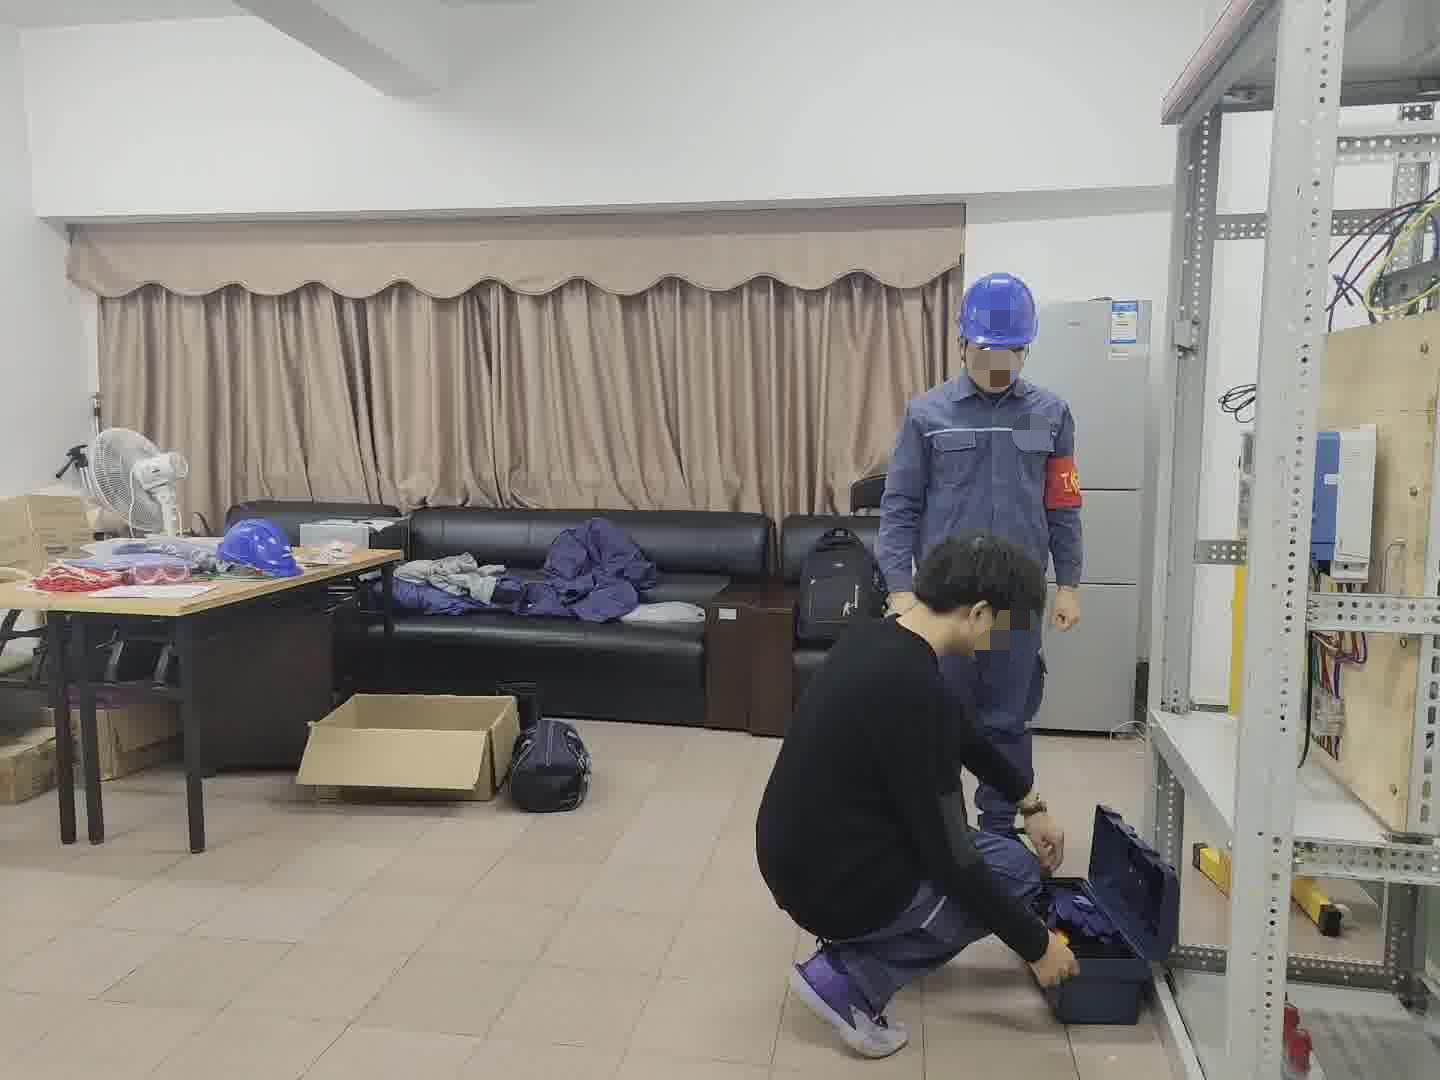halt: (957, 275, 1044, 393)
noear: (950, 600, 1007, 660)
unhalt: (905, 533, 1048, 667)
